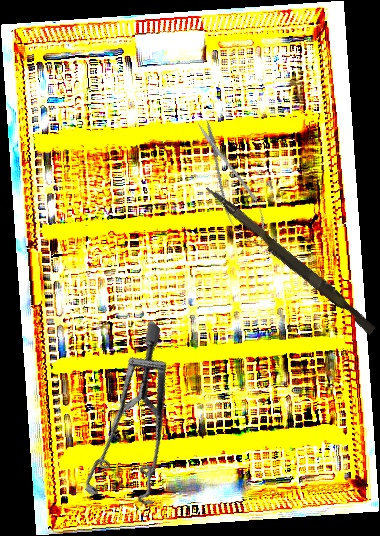Micro Scissor: (185, 112, 278, 256)
Pusher: (199, 184, 380, 336)
Speculum: (32, 319, 245, 531)
